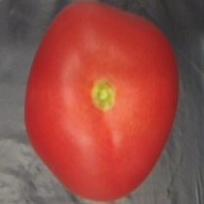unripe: (19, 0, 185, 204)
